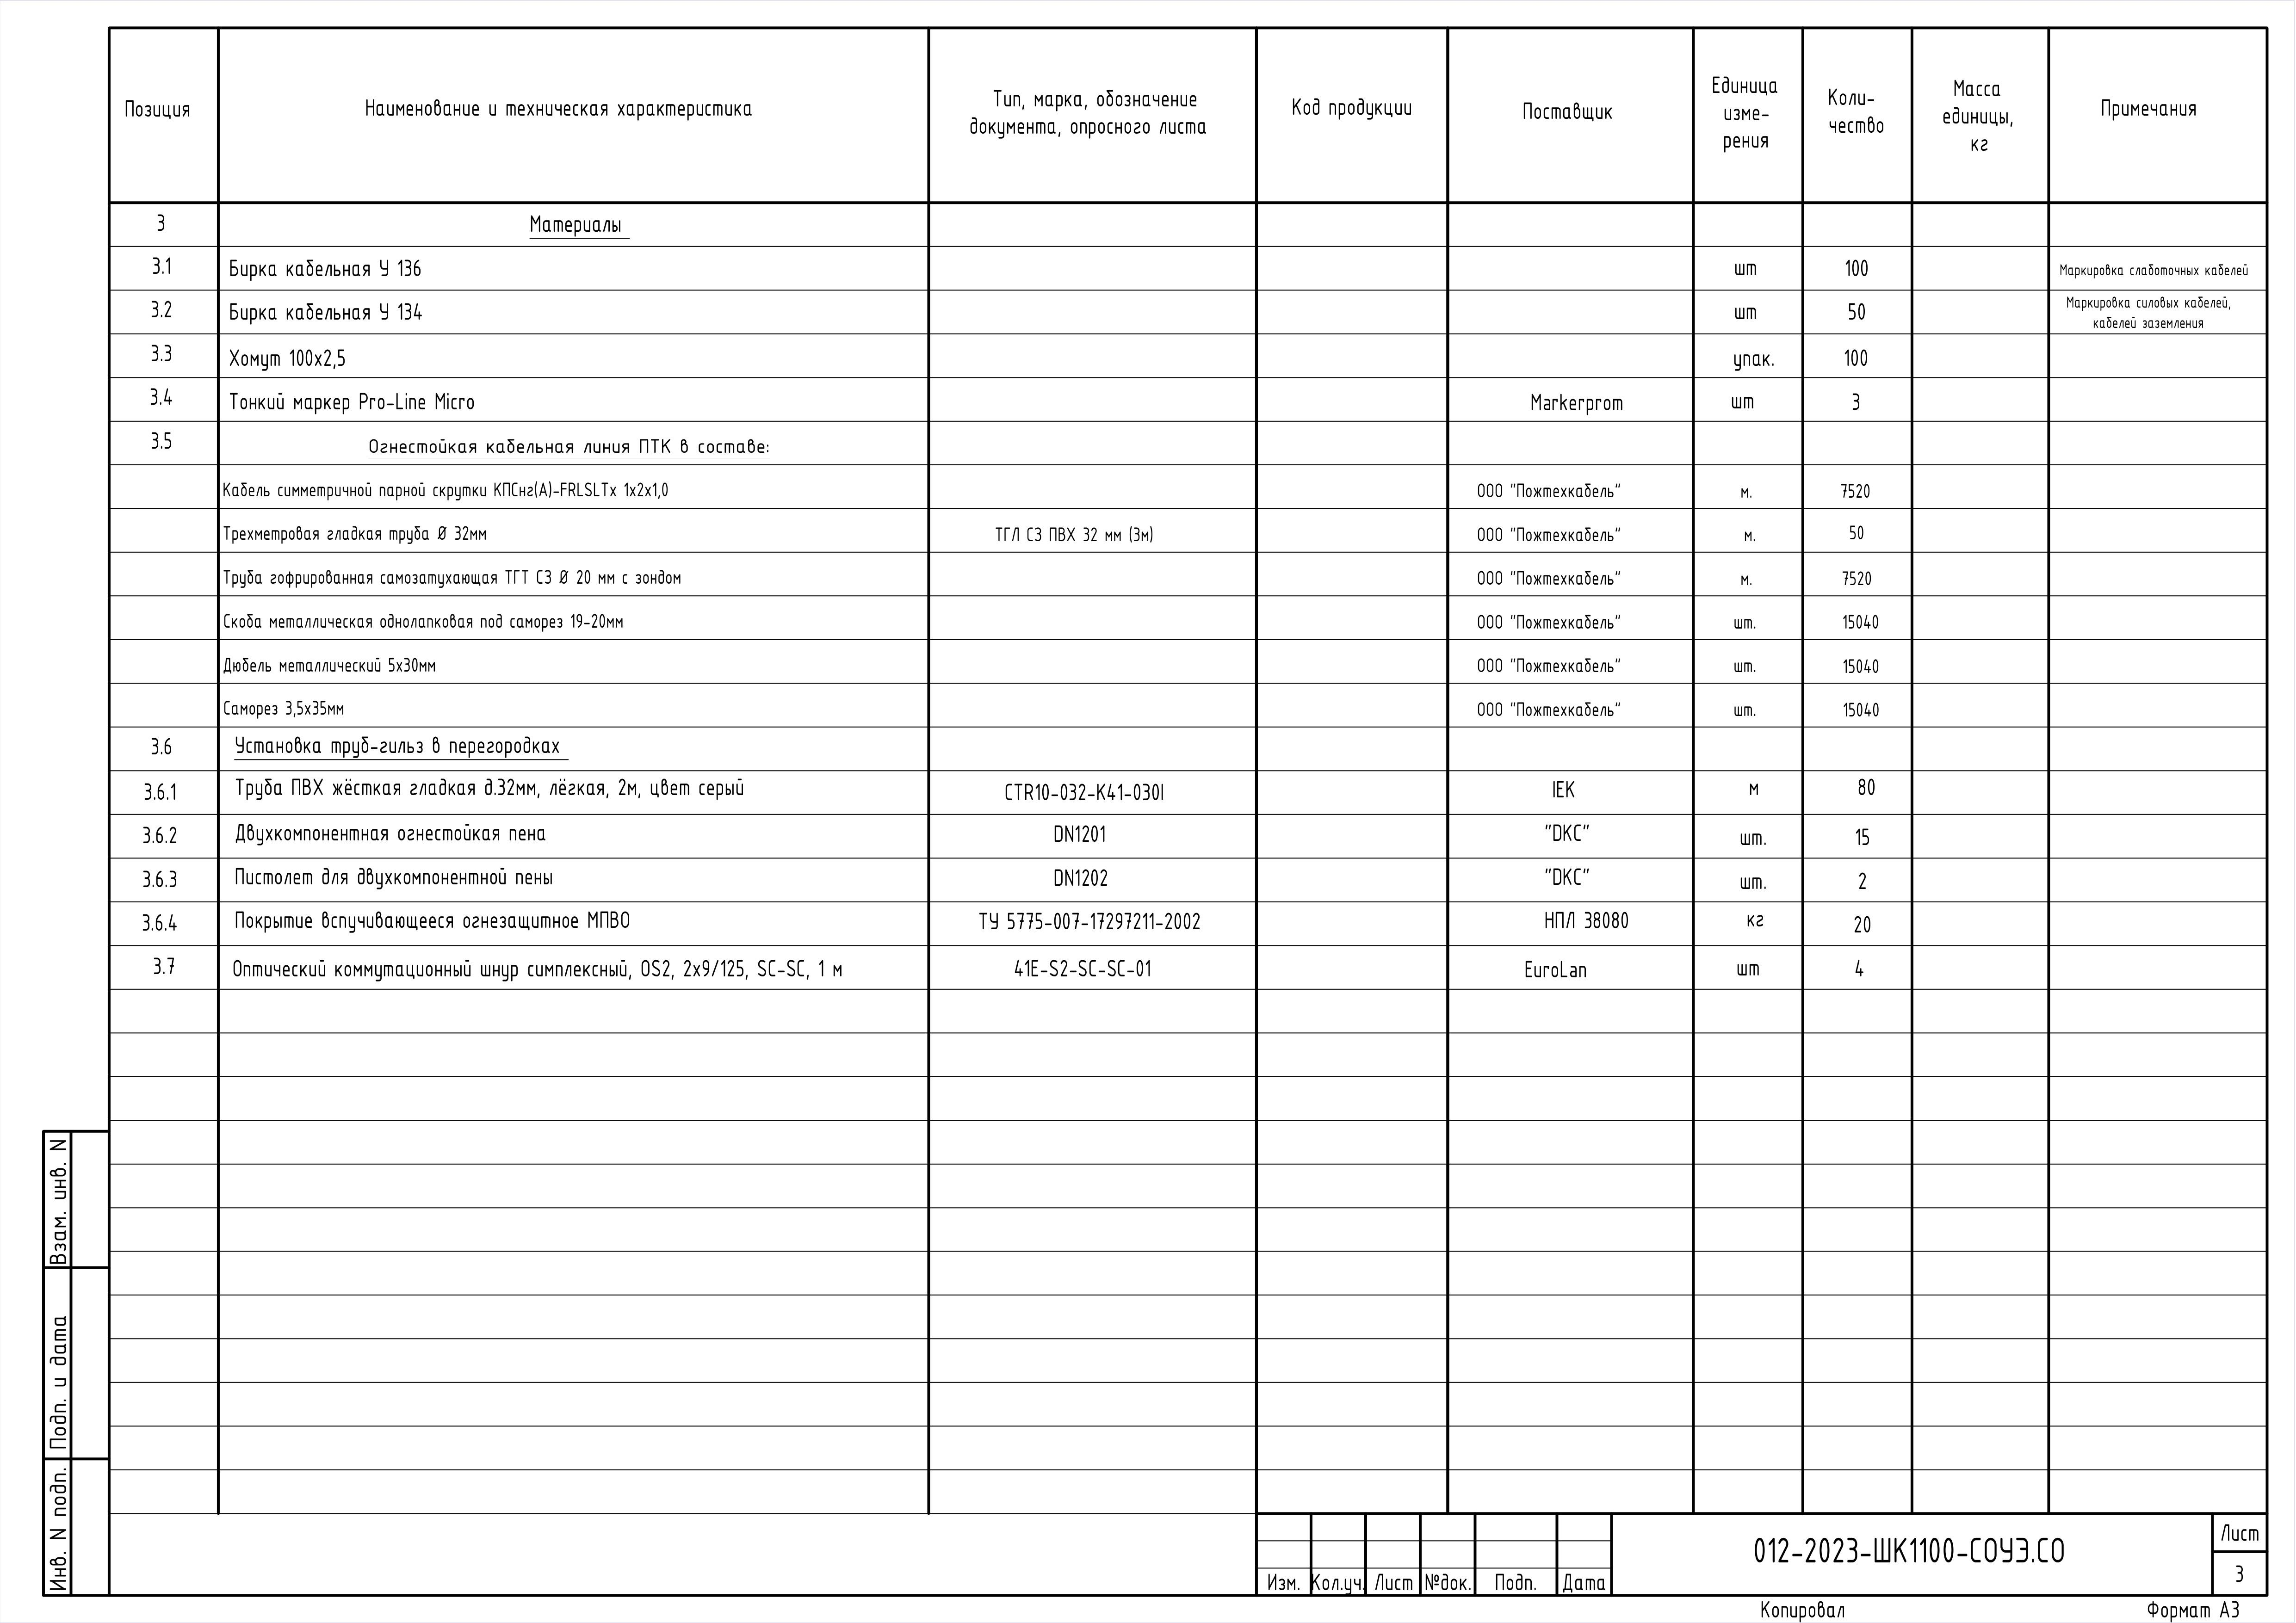Name of costs: (220, 204, 929, 1512)
Note: (929, 204, 1258, 1512)
Quantity: (1802, 202, 1913, 1514)
Unit of measurement: (1693, 204, 1802, 1514)
